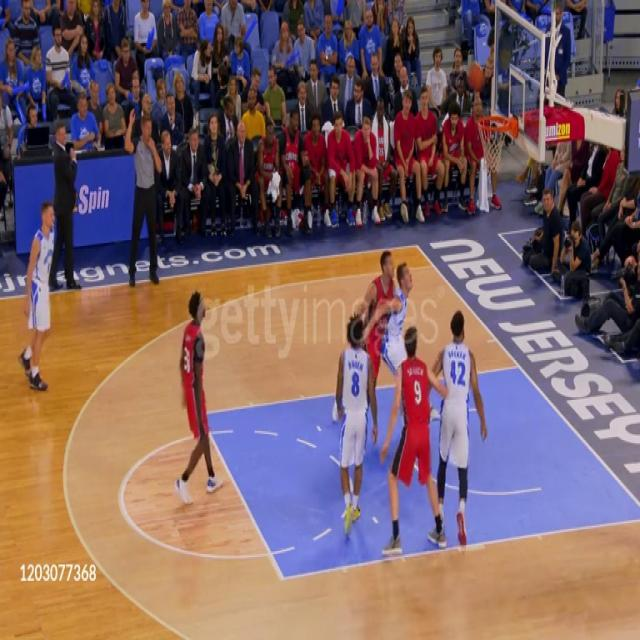ball: (467, 61, 486, 92)
